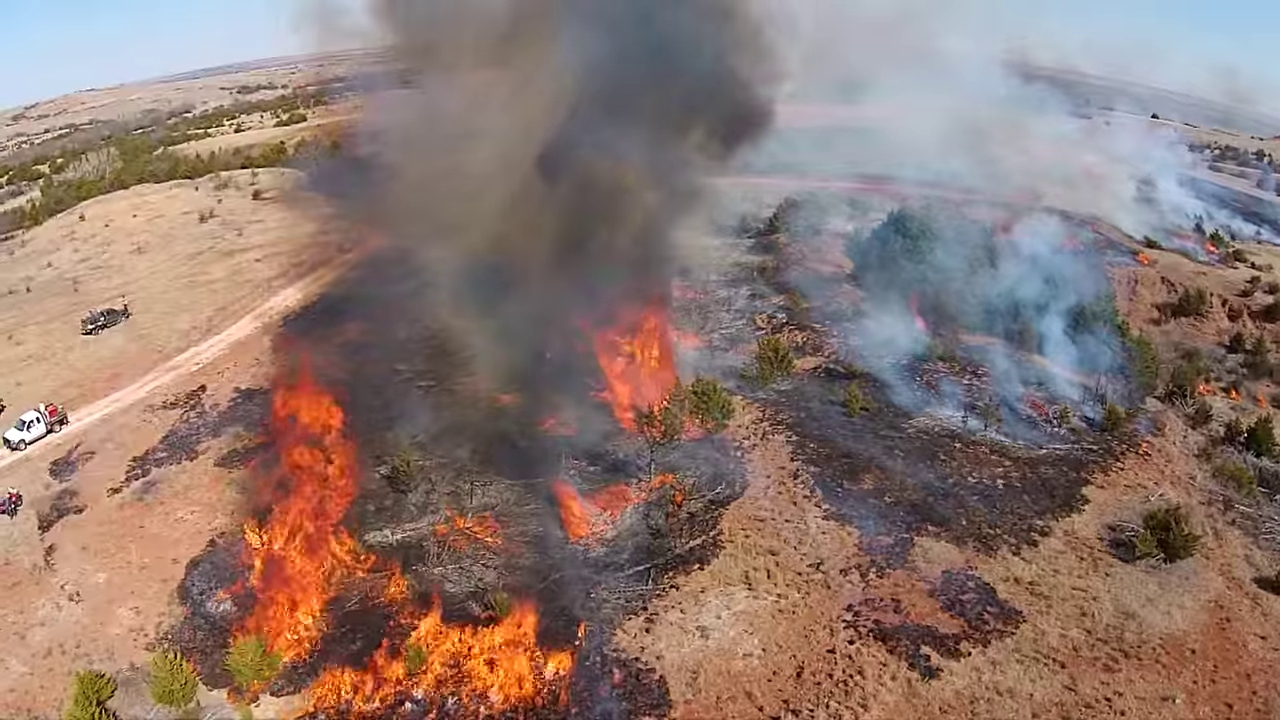forest_fire: (236, 364, 574, 715), (592, 308, 683, 430), (552, 473, 675, 541), (443, 515, 497, 542), (1189, 379, 1241, 404), (1131, 242, 1161, 266)
